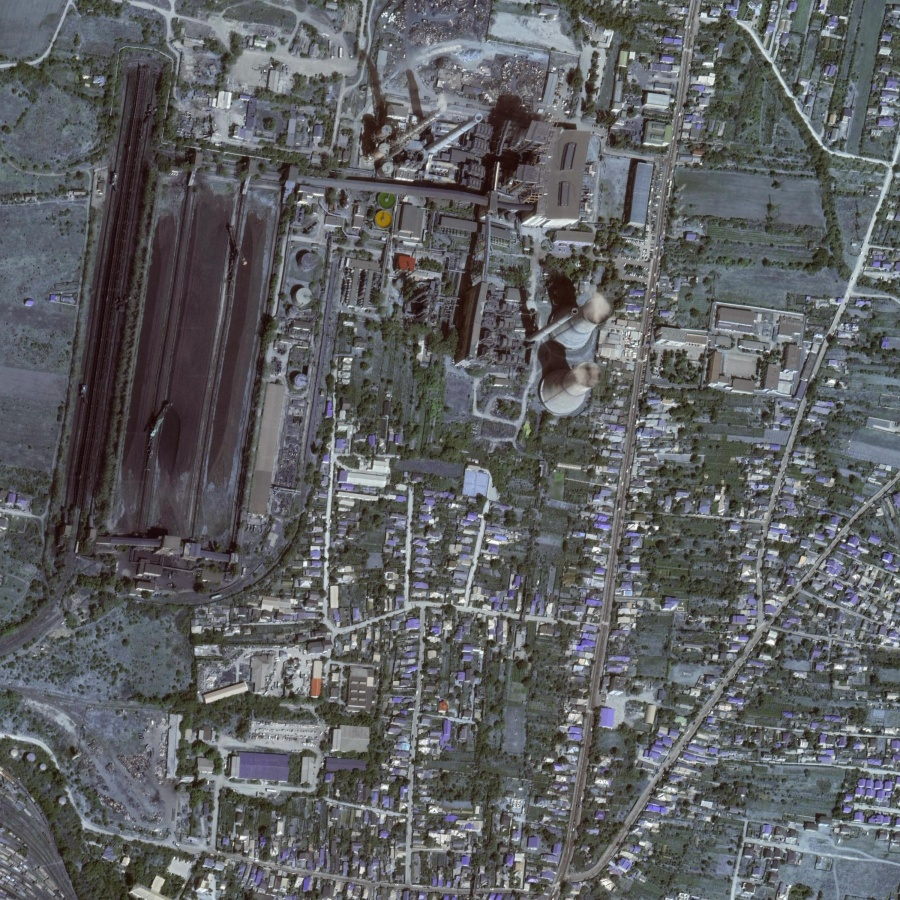PowerPlant: (68, 36, 621, 584)
